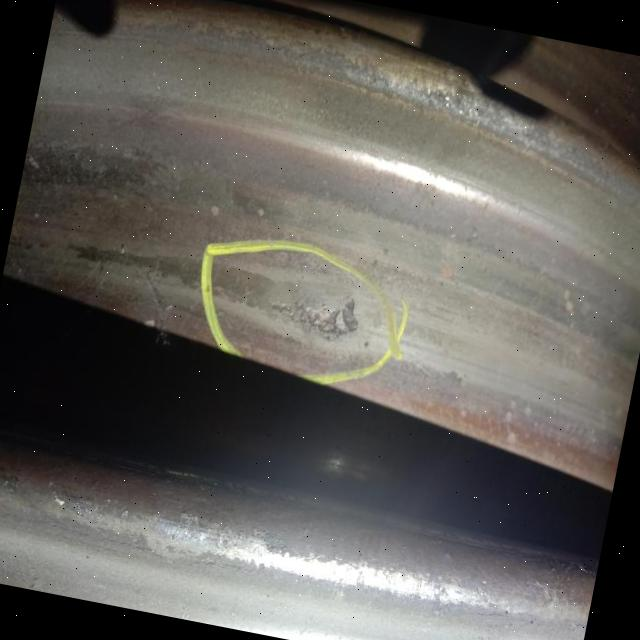Peeling: (266, 285, 364, 349)
